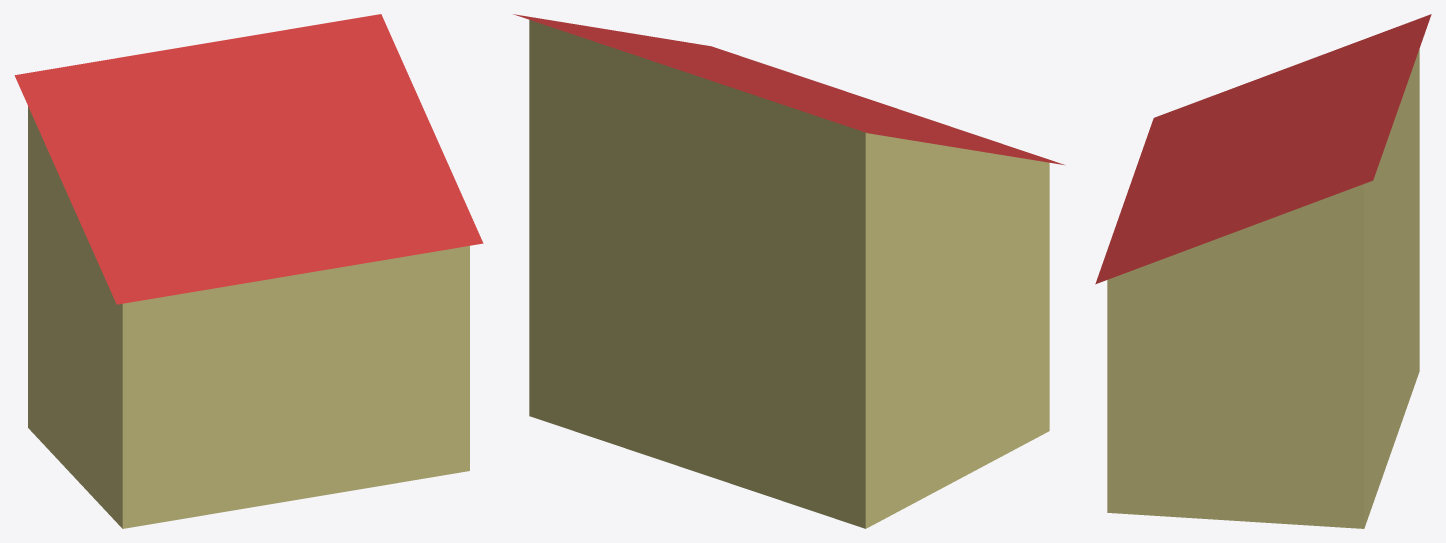
3 renders of one model, left to right at view 1: azimuth 30°, elevation 25°; view 2: azimuth 150°, elevation 25°; view 3: azimuth 270°, elevation 25°, orthographic. The views are drawn at different scales.
Bounding box in the file's own units: 10.25 × 7.92 × 9.18.
